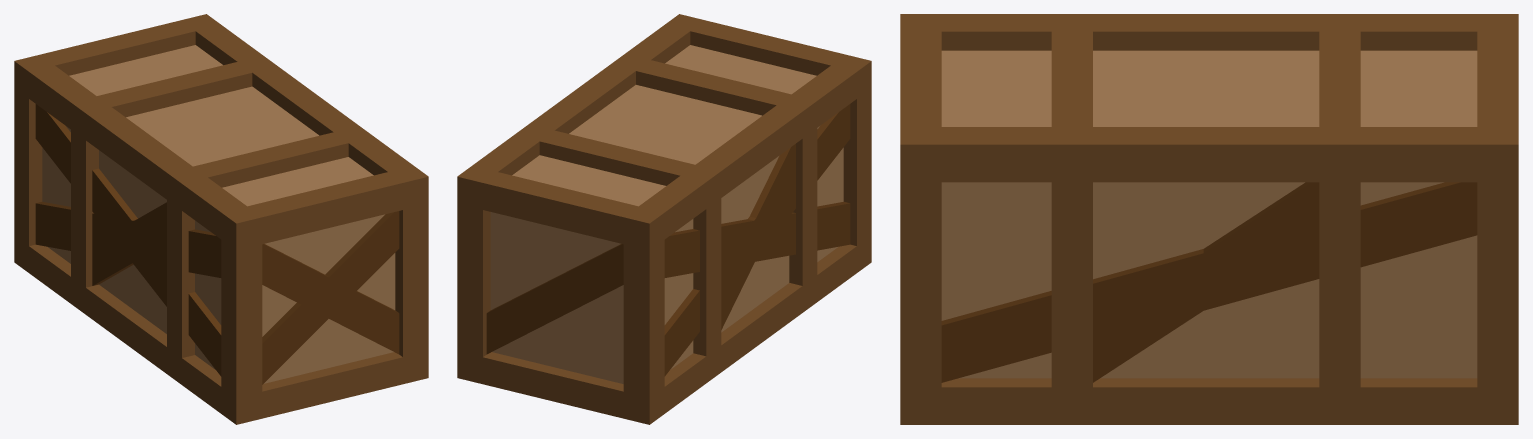
File: BreakableCrates.fbx
The picture shows the model from 3 angles, left to right: view 1: azimuth 30°, elevation 25°; view 2: azimuth 150°, elevation 25°; view 3: azimuth 270°, elevation 25°; orthographic projection. The views are drawn at different scales.
Visible parts, largest first — view 1: Crate02, Crate01, Crate01_Part03, Crate02_Part04, Crate02_Part03, Crate02_Part02, Crate01_Part04, Crate02_Part01, Crate01_Part01, Crate01_Part02; view 2: Crate02, Crate01, Crate01_Part03, Crate02_Part04, Crate02_Part01, Crate02_Part02, Crate01_Part02, Crate01_Part04, Crate02_Part03; view 3: Crate02, Crate01, Crate01_Part01, Crate02_Part02, Crate01_Part04, Crate01_Part03, Crate02_Part04, Crate02_Part03.
Part boxes in pixels (x1,y1,x2,y2): Crate02: [14, 14, 428, 424]; Crate01: [88, 55, 363, 384]; Crate01_Part03: [71, 98, 194, 353]; Crate02_Part04: [14, 57, 253, 424]; Crate02_Part03: [226, 169, 428, 407]; Crate02_Part02: [192, 14, 428, 381]; Crate01_Part04: [172, 129, 373, 357]; Crate02_Part01: [15, 15, 215, 68]; Crate01_Part01: [247, 56, 362, 133]; Crate01_Part02: [100, 63, 256, 104]; Crate02: [457, 14, 871, 424]; Crate01: [517, 61, 817, 362]; Crate01_Part03: [689, 104, 806, 382]; Crate02_Part04: [632, 57, 871, 419]; Crate02_Part01: [465, 170, 658, 412]; Crate02_Part02: [457, 14, 688, 378]; Crate01_Part02: [514, 133, 705, 355]; Crate01_Part04: [615, 54, 816, 107]; Crate02_Part03: [672, 16, 871, 269]; Crate02: [900, 14, 1518, 424]; Crate01: [1079, 25, 1360, 424]; Crate01_Part01: [1080, 133, 1360, 423]; Crate02_Part02: [900, 134, 1516, 424]; Crate01_Part04: [1051, 14, 1079, 424]; Crate01_Part03: [1079, 14, 1360, 25]; Crate02_Part04: [900, 14, 1518, 25]; Crate02_Part03: [900, 14, 929, 418].
Size of the model in its own units: 100 by 100 by 200.
